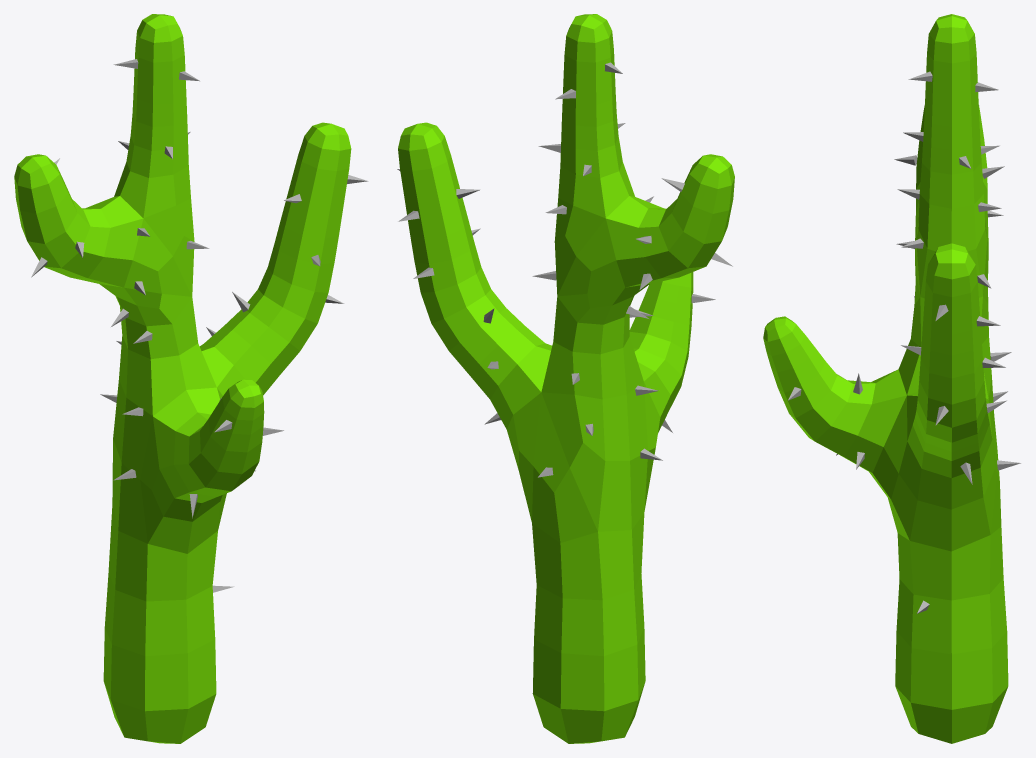
Rendered from cactus1.fbx.
3 renders of one model, left to right at view 1: azimuth 30°, elevation 25°; view 2: azimuth 150°, elevation 25°; view 3: azimuth 270°, elevation 25°, orthographic.
Parts seen in each view (by area): view 1: cactus1, Cone.039; view 2: cactus1, Cone.039; view 3: cactus1, Cone.039.
Part boxes in pixels (x1=…): cactus1: x1=14, y1=14, x2=351, y2=743; Cone.039: x1=31, y1=59, x2=368, y2=592; cactus1: x1=398, y1=14, x2=734, y2=743; Cone.039: x1=397, y1=62, x2=732, y2=477; cactus1: x1=763, y1=14, x2=1008, y2=743; Cone.039: x1=788, y1=71, x2=1020, y2=613.
Size of the model in its own units: 141 by 286 by 92.55.
